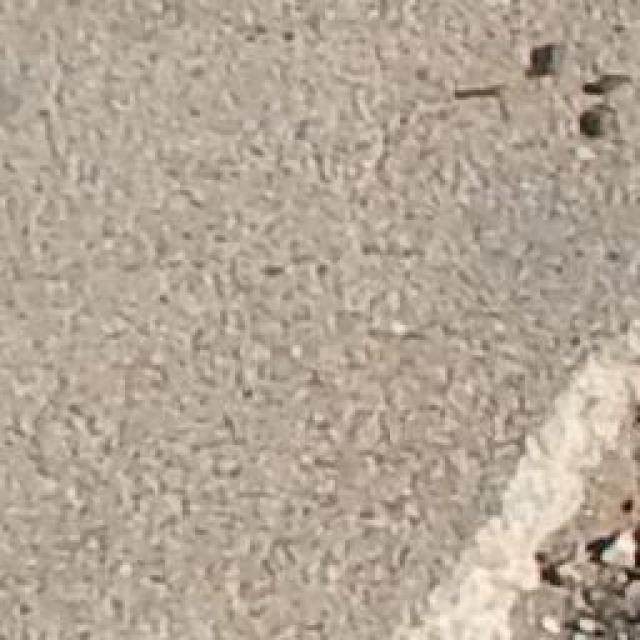concrete-crack: (381, 282, 640, 640), (525, 45, 558, 80), (582, 75, 632, 95), (455, 82, 508, 98), (580, 112, 600, 138)
